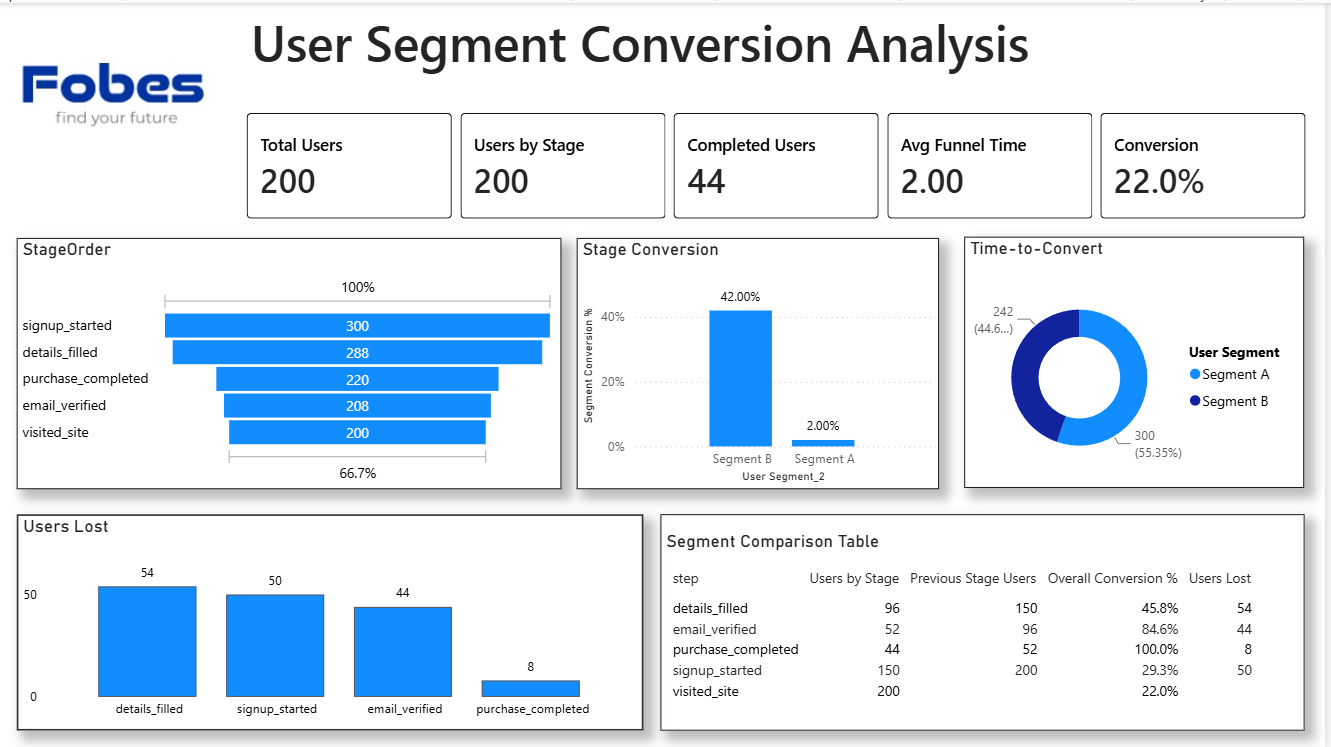

Layout of this report page (visuals, bound fields, positions):
{"tool":"powerbi","page":{"name":"Page 1","canvas":[1280,720],"ordinal":0},"visuals":[{"type":"cardVisual","fields":{"Data":["Amesure.Total Userss","Amesure.Users by Stage","Amesure.Completed Users","Amesure.Average Funnel Time","Amesure.Conversion %"]},"box":[222.9,98.1,1057.2,137],"z":0},{"type":"funnel","fields":{"Y":["Sum(funnel_events_sample.StageOrder)"],"Category":["funnel_events_sample.step"]},"box":[17.7,234.6,526,242.2],"z":1000},{"type":"tableEx","title":"Segment Comparison Table","fields":{"Values":["funnel_events_sample.step","Amesure.Users by Stage","Amesure.Previous Stage Users","Amesure.Overall Conversion %","Amesure.Users Lost"]},"box":[563.3,502.7,717.2,218.1],"z":2000},{"type":"clusteredColumnChart","fields":{"Category":["funnel_events_sample.step"],"Y":["Amesure.Users Lost"]},"box":[17.7,503.3,526,216.9],"z":3000},{"type":"columnChart","title":"Stage Conversion ","fields":{"Category":["funnel_events_sample.User Segment_2"],"Y":["Amesure.Segment Conversion %"]},"box":[563.8,234.6,349.4,242.2],"z":4000},{"type":"donutChart","title":"Time-to-Convert Chart","fields":{"Category":["funnel_events_sample.User Segment_2"],"Y":["CountNonNull(funnel_events_sample.timestamp)"]},"box":[933.4,234.6,327.9,242.2],"z":5000},{"type":"image","box":[18.2,0,184.3,178.2],"z":6000},{"type":"textbox","box":[238.7,0,1022.5,90.9],"z":6001}]}

Visuals, with their boxes in screenshot pixels (x1, y1, x2, y2), scaled from the page's 1280x720 canvas onto the 1331x747 screenshot:
cardVisual - Amesure.Total Userss x Amesure.Users by Stage: [232,102,1330,244]
funnel - Sum(funnel_events_sample.StageOrder) x funnel_events_sample.step: [18,243,565,495]
"Segment Comparison Table" tableEx: [586,522,1330,746]
clusteredColumnChart - funnel_events_sample.step x Amesure.Users Lost: [18,522,565,746]
"Stage Conversion " columnChart: [586,243,950,495]
"Time-to-Convert Chart" donutChart: [971,243,1312,495]
image: [19,0,211,185]
textbox: [248,0,1311,94]
